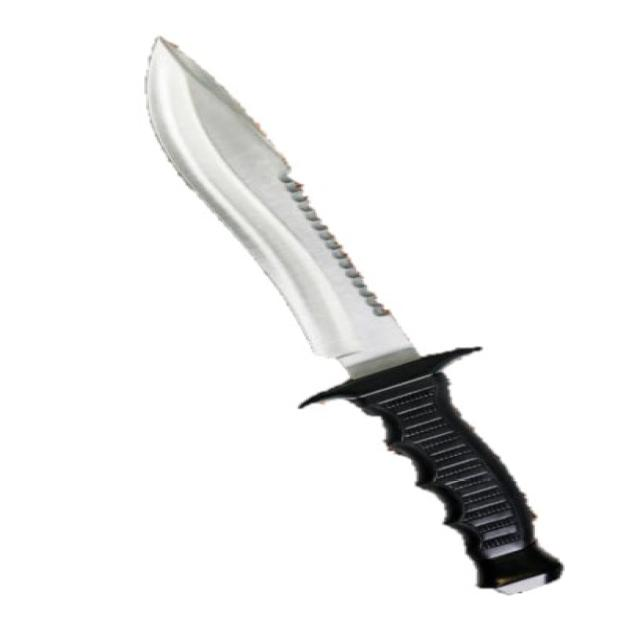knife: (138, 30, 583, 610)
